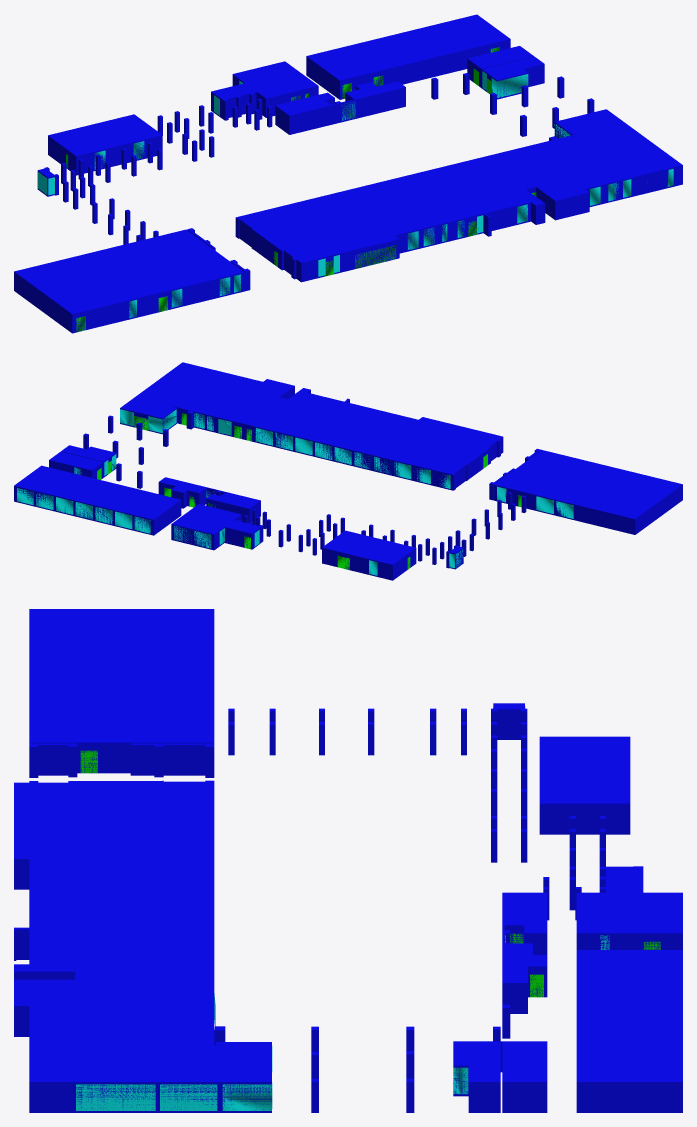
3 renders of one model, top to bottom at view 1: azimuth 30°, elevation 25°; view 2: azimuth 150°, elevation 25°; view 3: azimuth 270°, elevation 25°, orthographic. The views are drawn at different scales.
Visible parts, largest first — view 1: group_out_solid_mesh, group_out_windows_mesh, group_out_door_mesh; view 2: group_out_solid_mesh, group_out_windows_mesh, group_out_door_mesh; view 3: group_out_solid_mesh, group_out_windows_mesh, group_out_door_mesh.
Boxes of the visible parts, x1=… form: group_out_solid_mesh: x1=14, y1=14, x2=682, y2=333; group_out_windows_mesh: x1=38, y1=71, x2=673, y2=317; group_out_door_mesh: x1=66, y1=47, x2=536, y2=332; group_out_solid_mesh: x1=14, y1=362, x2=682, y2=580; group_out_windows_mesh: x1=17, y1=409, x2=573, y2=575; group_out_door_mesh: x1=97, y1=413, x2=521, y2=569; group_out_solid_mesh: x1=14, y1=609, x2=682, y2=1112; group_out_windows_mesh: x1=76, y1=706, x2=609, y2=1110; group_out_door_mesh: x1=80, y1=750, x2=660, y2=997.
Size of the model in its own units: 98899 by 3000 by 59109.
